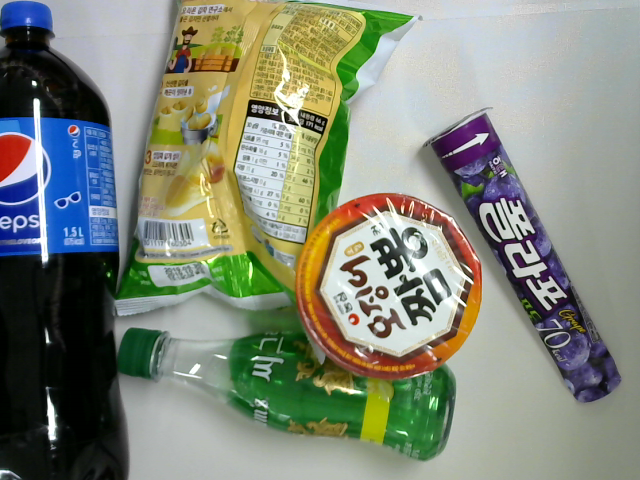Ojjam: (294, 193, 484, 382)
Pepsi_Cola_1.5L: (1, 1, 126, 480)
Pocachip_Onion: (114, 1, 424, 319)
Polapo_Grape: (425, 109, 624, 408)
Seagram_Lemon_Carbonated_Water: (121, 319, 458, 462)
